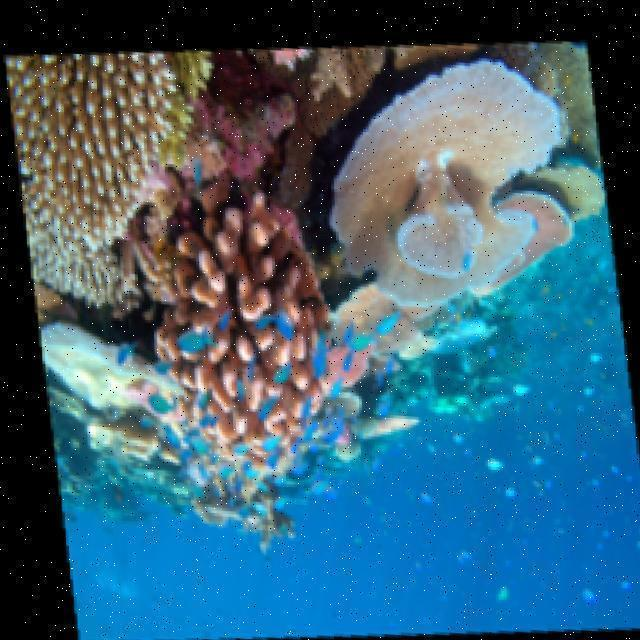Healthy Coral: (322, 63, 619, 344), (119, 183, 356, 495), (24, 42, 180, 304)
